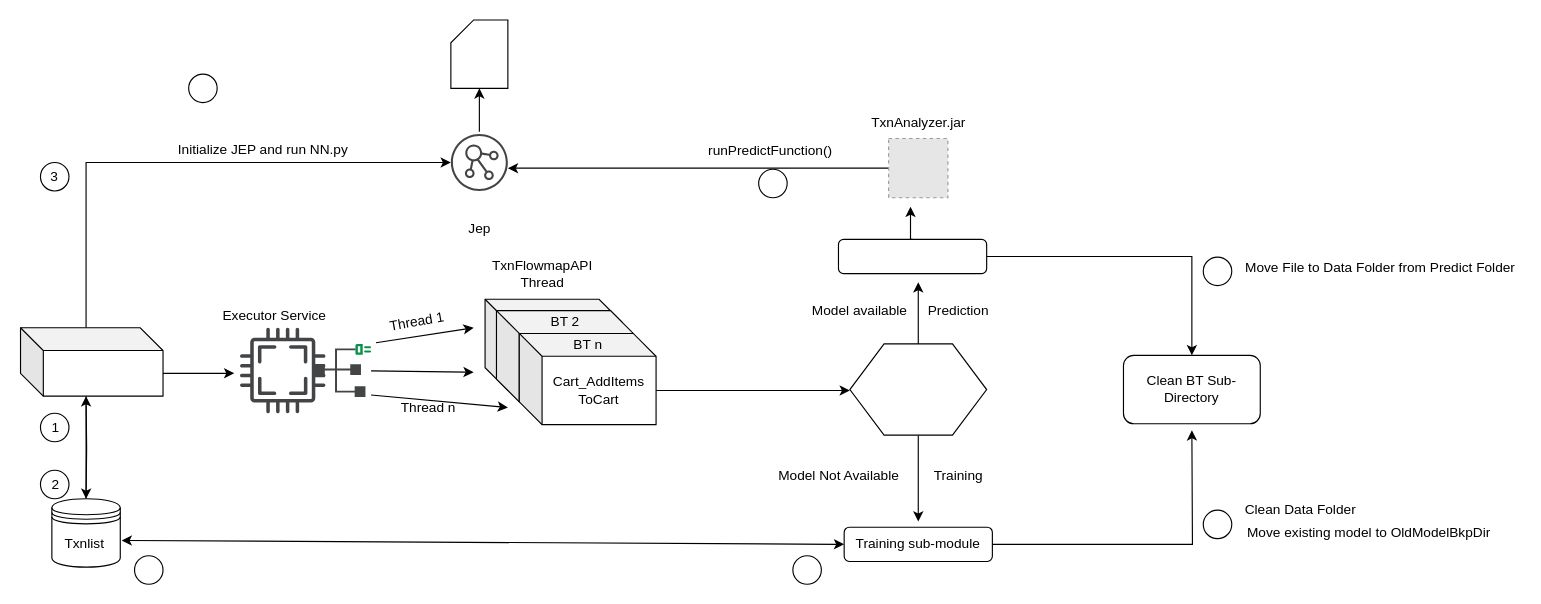
Some shapes in this 1541 by 604 pixel diagram are drawn without their labels. Grey dashed boxes stand in for pictures. The shapes that lost their labels are listed below. From the top down, each one's centre as x and y in pixels, then its label:
At point 479,53: "NN.py".
At point 912,256: "Prediction sub-module".
At point 91,361: "Main".
At point 918,389: "is Trained Model available for this Business Txn ?".
